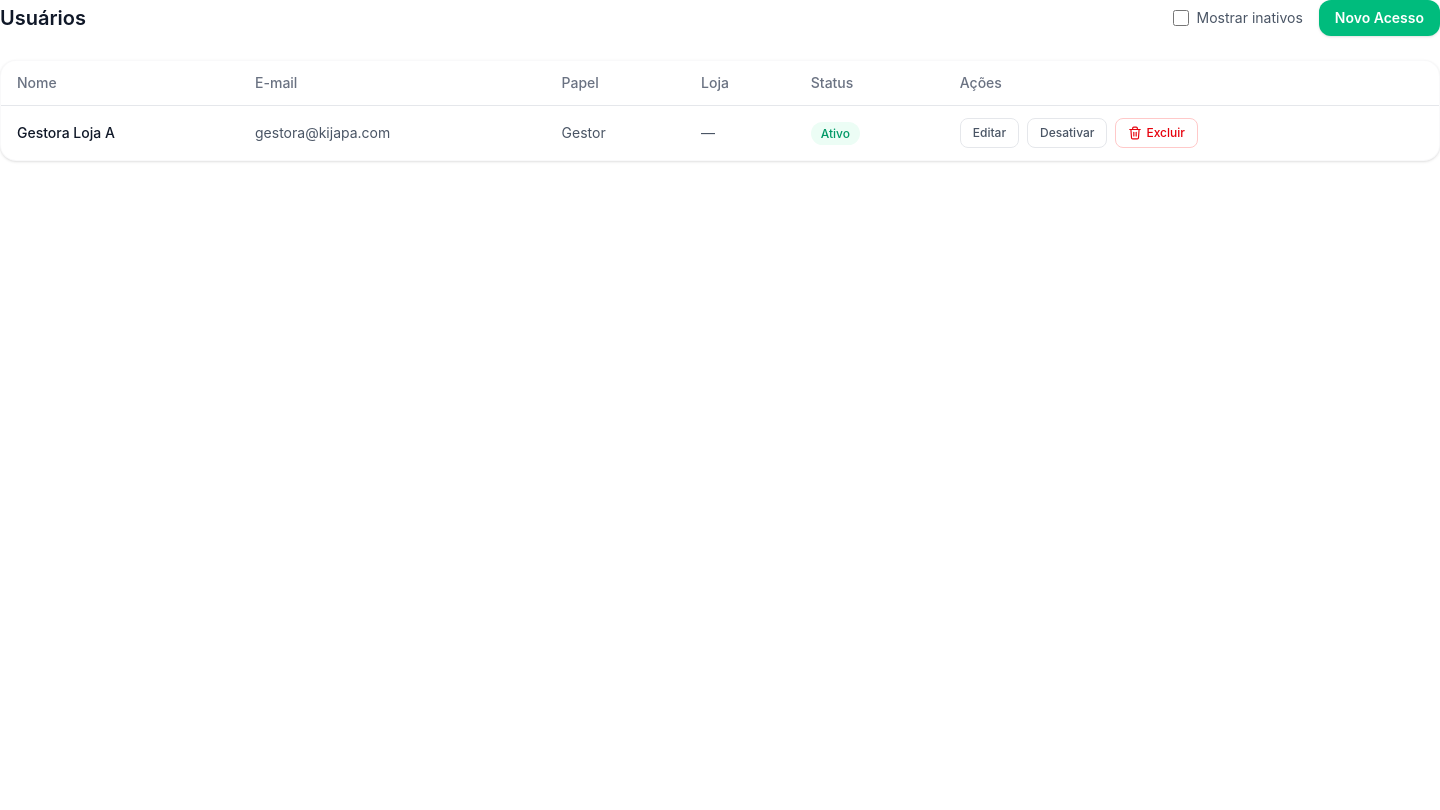
it: UsersPage › mostra o erro da API se a exclusão falhar (ex.: tentativa de auto-exclusão)
This screenshot has width=1440, height=810.
Click the button "Excluir". click: [1157, 133]
box: [1115,118,1198,148]
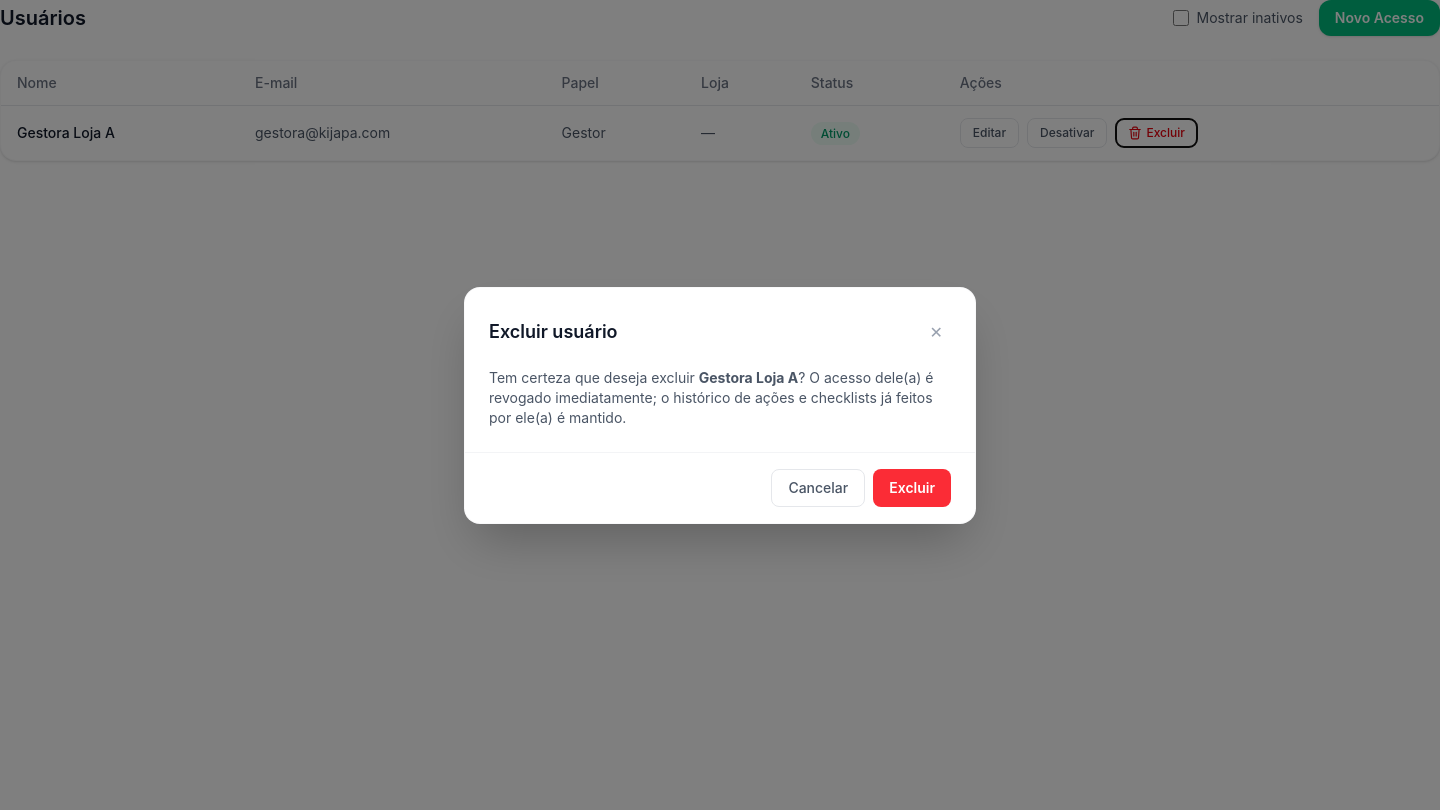
Click the button "Excluir". click: [912, 488]
box: [873,468,951,506]
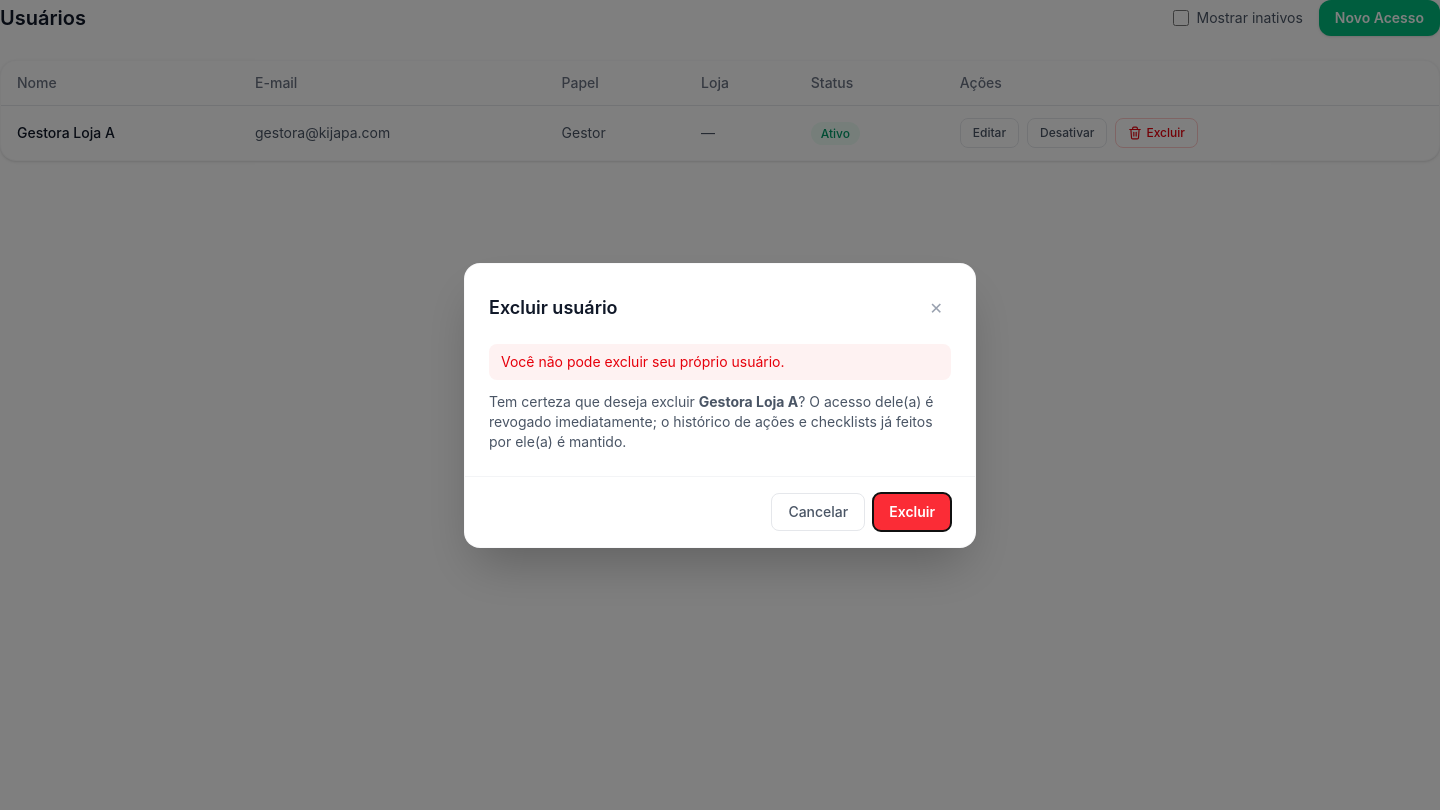
Result: the message shows "não pode excluir seu próprio usuário" at [501,352,784,370]
